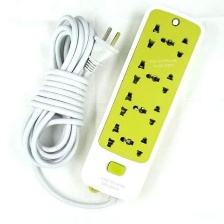three_eye_plug: (78, 2, 206, 205)
